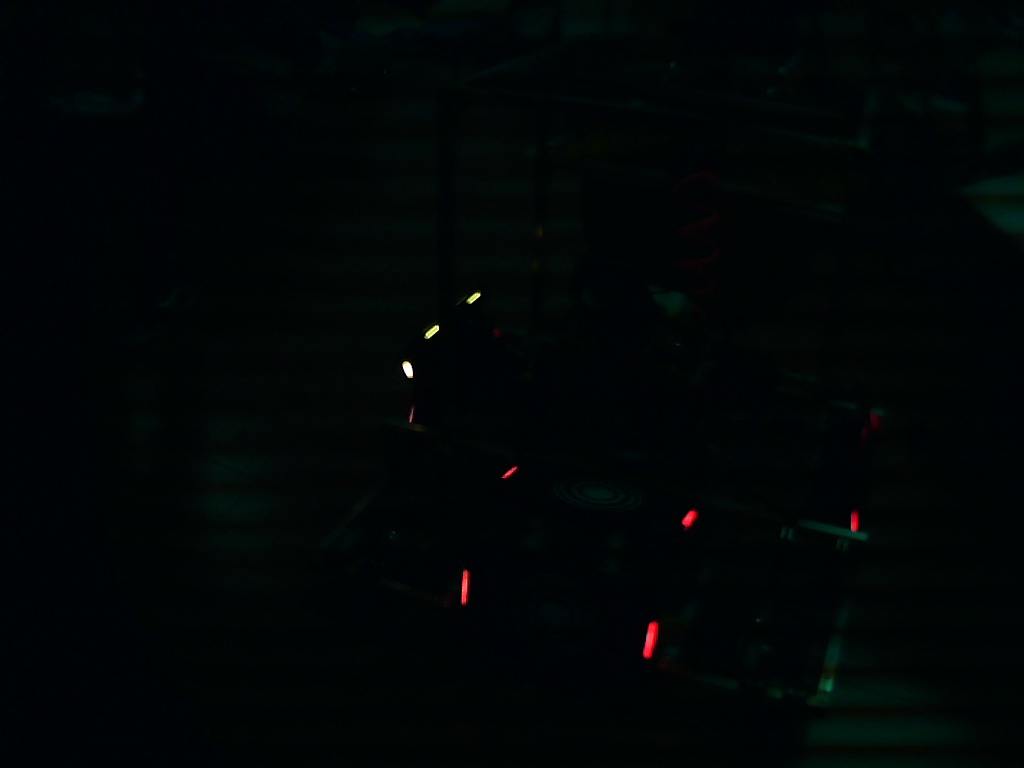lamp: (638, 617, 663, 663), (456, 564, 474, 609)
